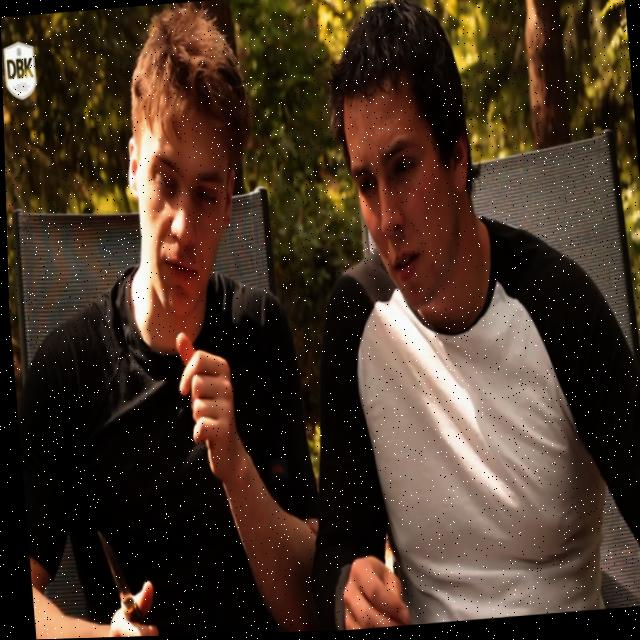knife: (83, 517, 145, 619)
